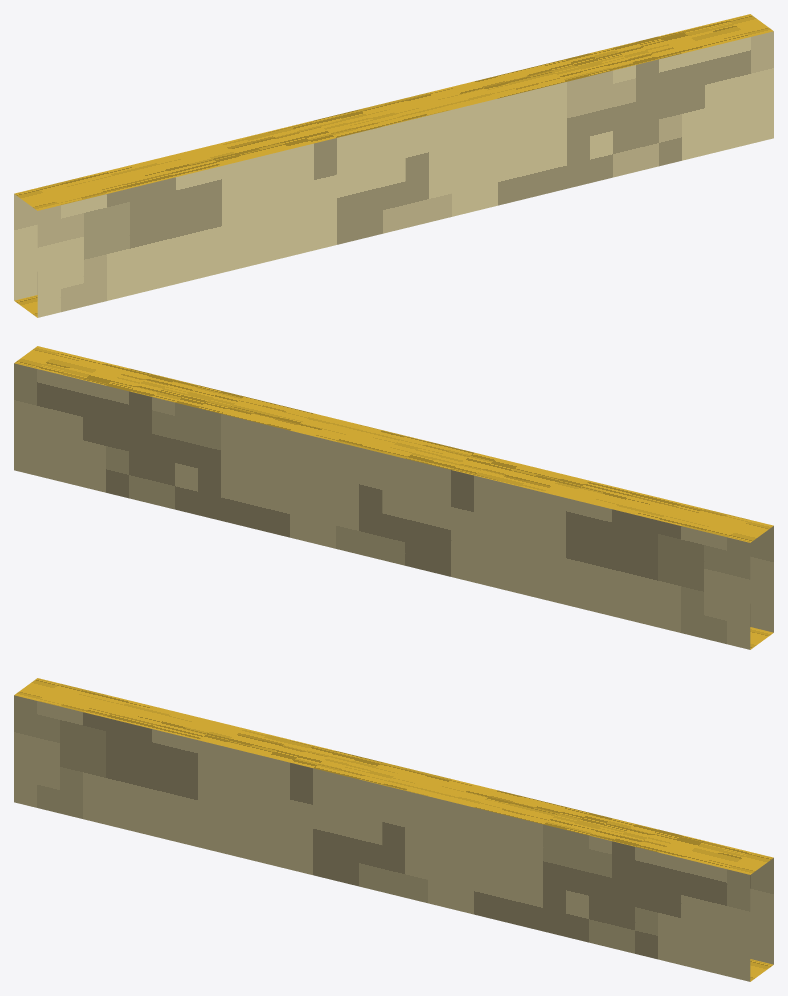
File: wall_opening_market_1.fbx
The picture shows the model from 3 angles, top to bottom: view 1: azimuth 30°, elevation 25°; view 2: azimuth 150°, elevation 25°; view 3: azimuth 330°, elevation 25°; orthographic projection.
Visible parts, largest first — view 1: wall_opening_market_1; view 2: wall_opening_market_1; view 3: wall_opening_market_1.
Boxes of the visible parts, left/top/right/bottom form: wall_opening_market_1: left=14, top=14, right=773, bottom=317; wall_opening_market_1: left=14, top=346, right=773, bottom=649; wall_opening_market_1: left=14, top=678, right=773, bottom=981.
Bounding box in the file's own units: 360 × 50 × 20.
